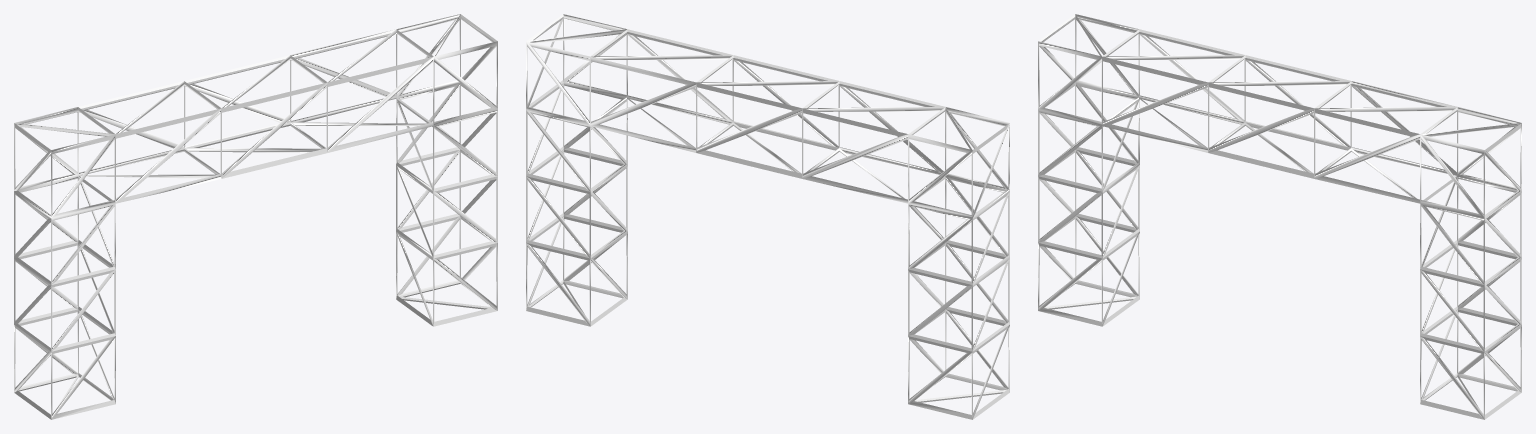
The model's file is StageTrussLight.glb.
3 renders of one model, left to right at view 1: azimuth 30°, elevation 25°; view 2: azimuth 150°, elevation 25°; view 3: azimuth 330°, elevation 25°, orthographic.
Visible parts, largest first — view 1: StageTrussLight; view 2: StageTrussLight; view 3: StageTrussLight.
Boxes of the visible parts, x1,y1,x2,y2 form: StageTrussLight: (14,14,497,419); StageTrussLight: (526,14,1009,419); StageTrussLight: (1038,14,1521,419).
Bounding box in the file's own units: 14.03 × 8.11 × 2.04.
Materials: 1 (1 with a texture image).
